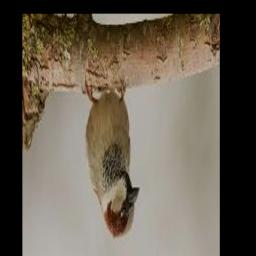Sparrow: (83, 74, 140, 238)
